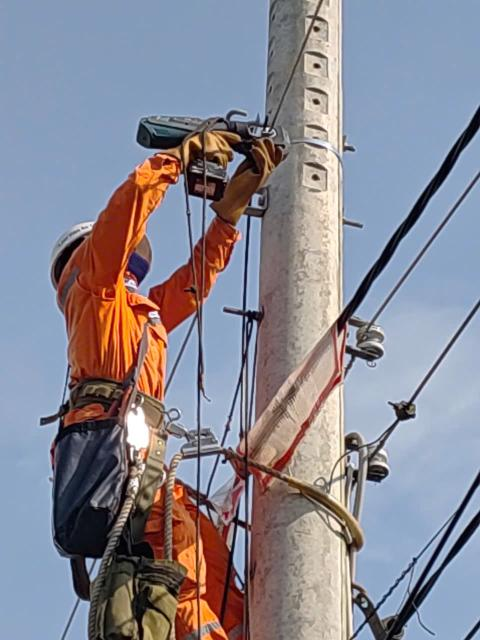gloves: (211, 127, 281, 223), (146, 122, 243, 171)
harness: (61, 366, 191, 446)
helmet: (31, 198, 173, 290)
